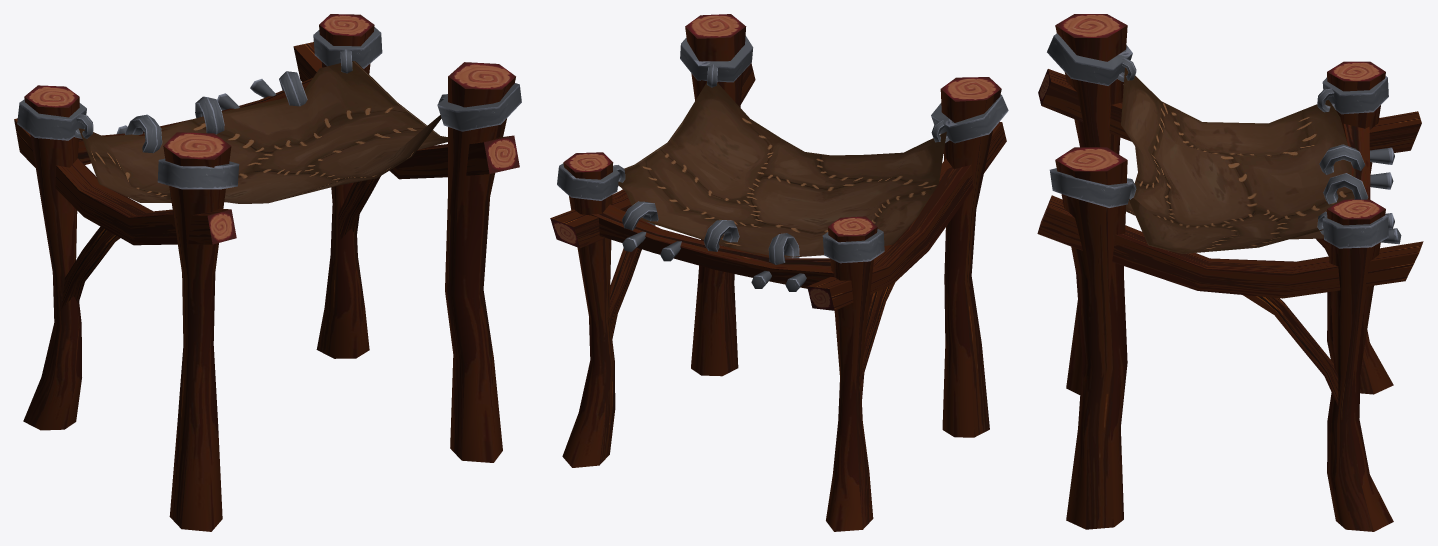
The model's file is SM_PROP_market_v03_01.glb.
3 views of the same model, side by side, from view 1: azimuth 30°, elevation 25°; view 2: azimuth 150°, elevation 25°; view 3: azimuth 270°, elevation 25° (orthographic). The views are drawn at different scales.
Parts seen in each view (by area): view 1: SM_PROP_market_v03_01_EXPORT; view 2: SM_PROP_market_v03_01_EXPORT; view 3: SM_PROP_market_v03_01_EXPORT.
Boxes of the visible parts, <box> form: SM_PROP_market_v03_01_EXPORT: <box>14,14,521,531</box>; SM_PROP_market_v03_01_EXPORT: <box>550,14,1008,531</box>; SM_PROP_market_v03_01_EXPORT: <box>1037,14,1423,531</box>.
Bounding box in the file's own units: 3.71 × 3.82 × 3.7.
Materials: 4 (4 with a texture image).
